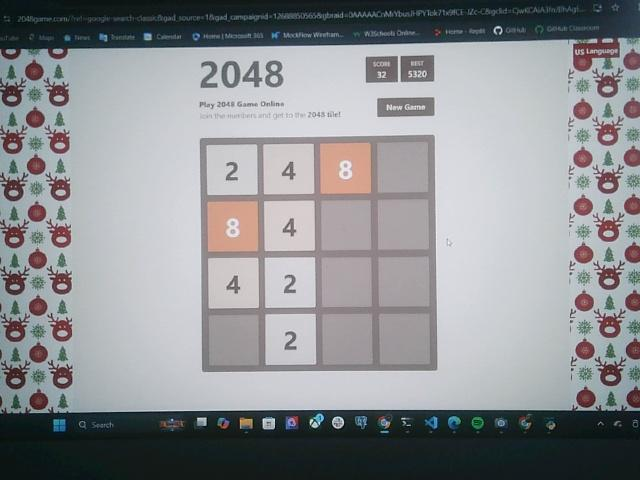best_score_box: (401, 56, 434, 82)
board: (200, 137, 436, 371)
button: (377, 97, 435, 116)
score_box: (366, 57, 397, 82)
tile: (264, 198, 316, 251), (206, 145, 258, 196), (265, 257, 316, 308), (264, 313, 315, 364), (262, 144, 314, 194), (208, 258, 260, 308), (207, 202, 259, 251), (321, 143, 371, 193)
